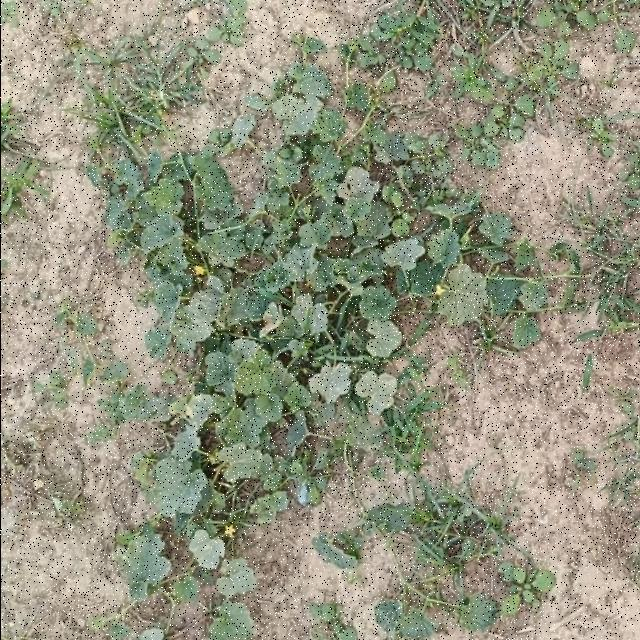plant: (91, 0, 628, 638), (312, 484, 554, 638)
